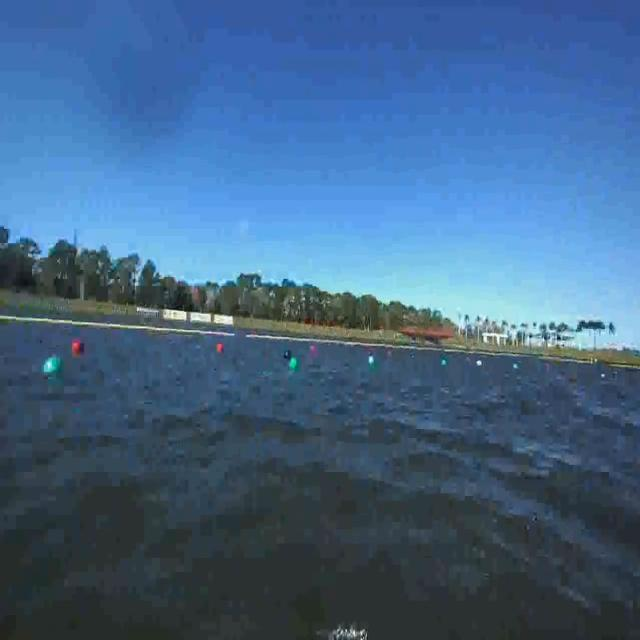black-buoy: (284, 347, 290, 357)
green-buoy: (46, 357, 65, 376), (289, 356, 298, 370), (443, 358, 449, 366)
red-buoy: (72, 341, 84, 355), (217, 344, 223, 354)
